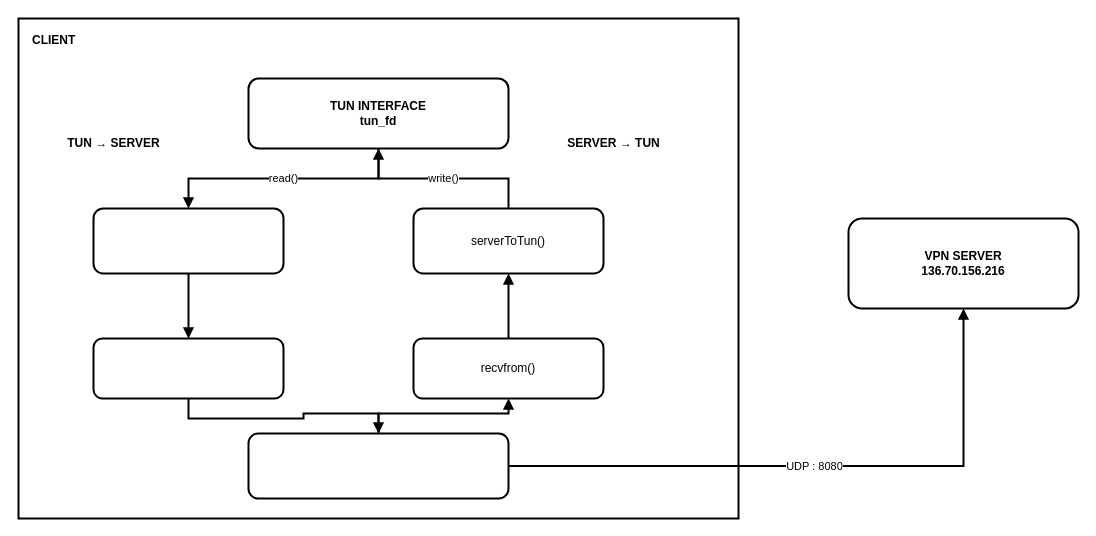
This 1096x536 diagram has some shape labels left out. The shapes that lost their labels are listed below. From the top down, each one's box as (x1, y1, x2, y2) in pixels, then its label:
(92, 207, 284, 274): tunToServer()
(92, 337, 284, 399): sendto()
(247, 432, 509, 499): UDP SOCKET sockfd
